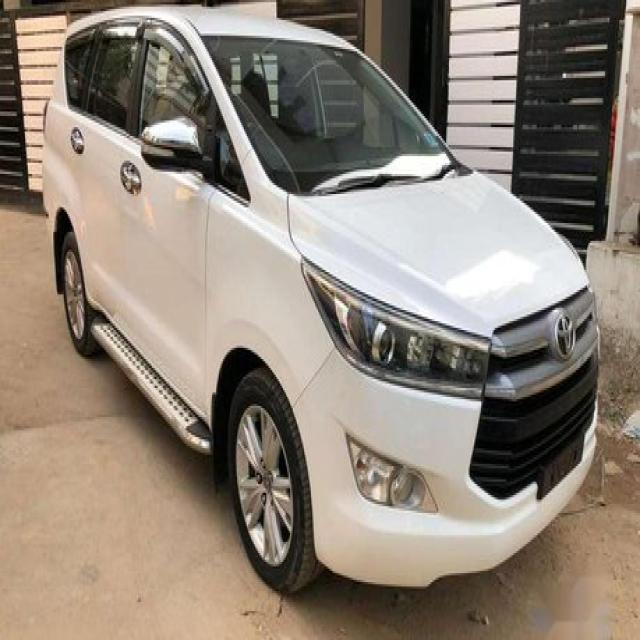light_vehicle: (41, 6, 603, 598)
